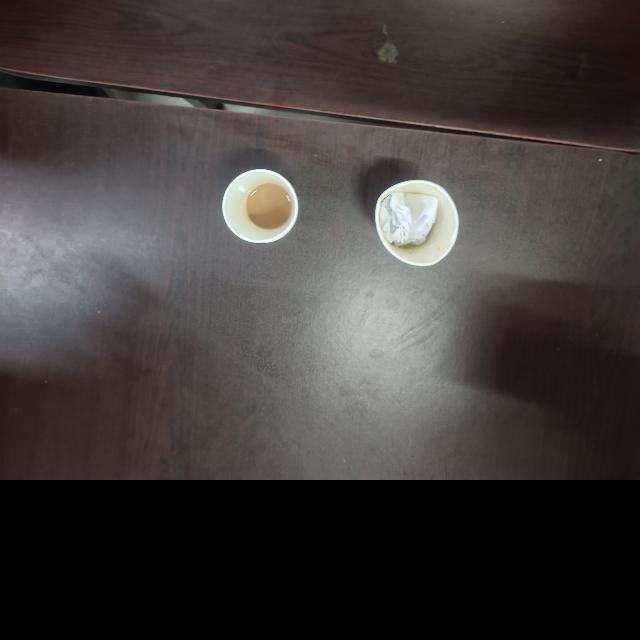kitchen paper: (382, 188, 442, 252)
